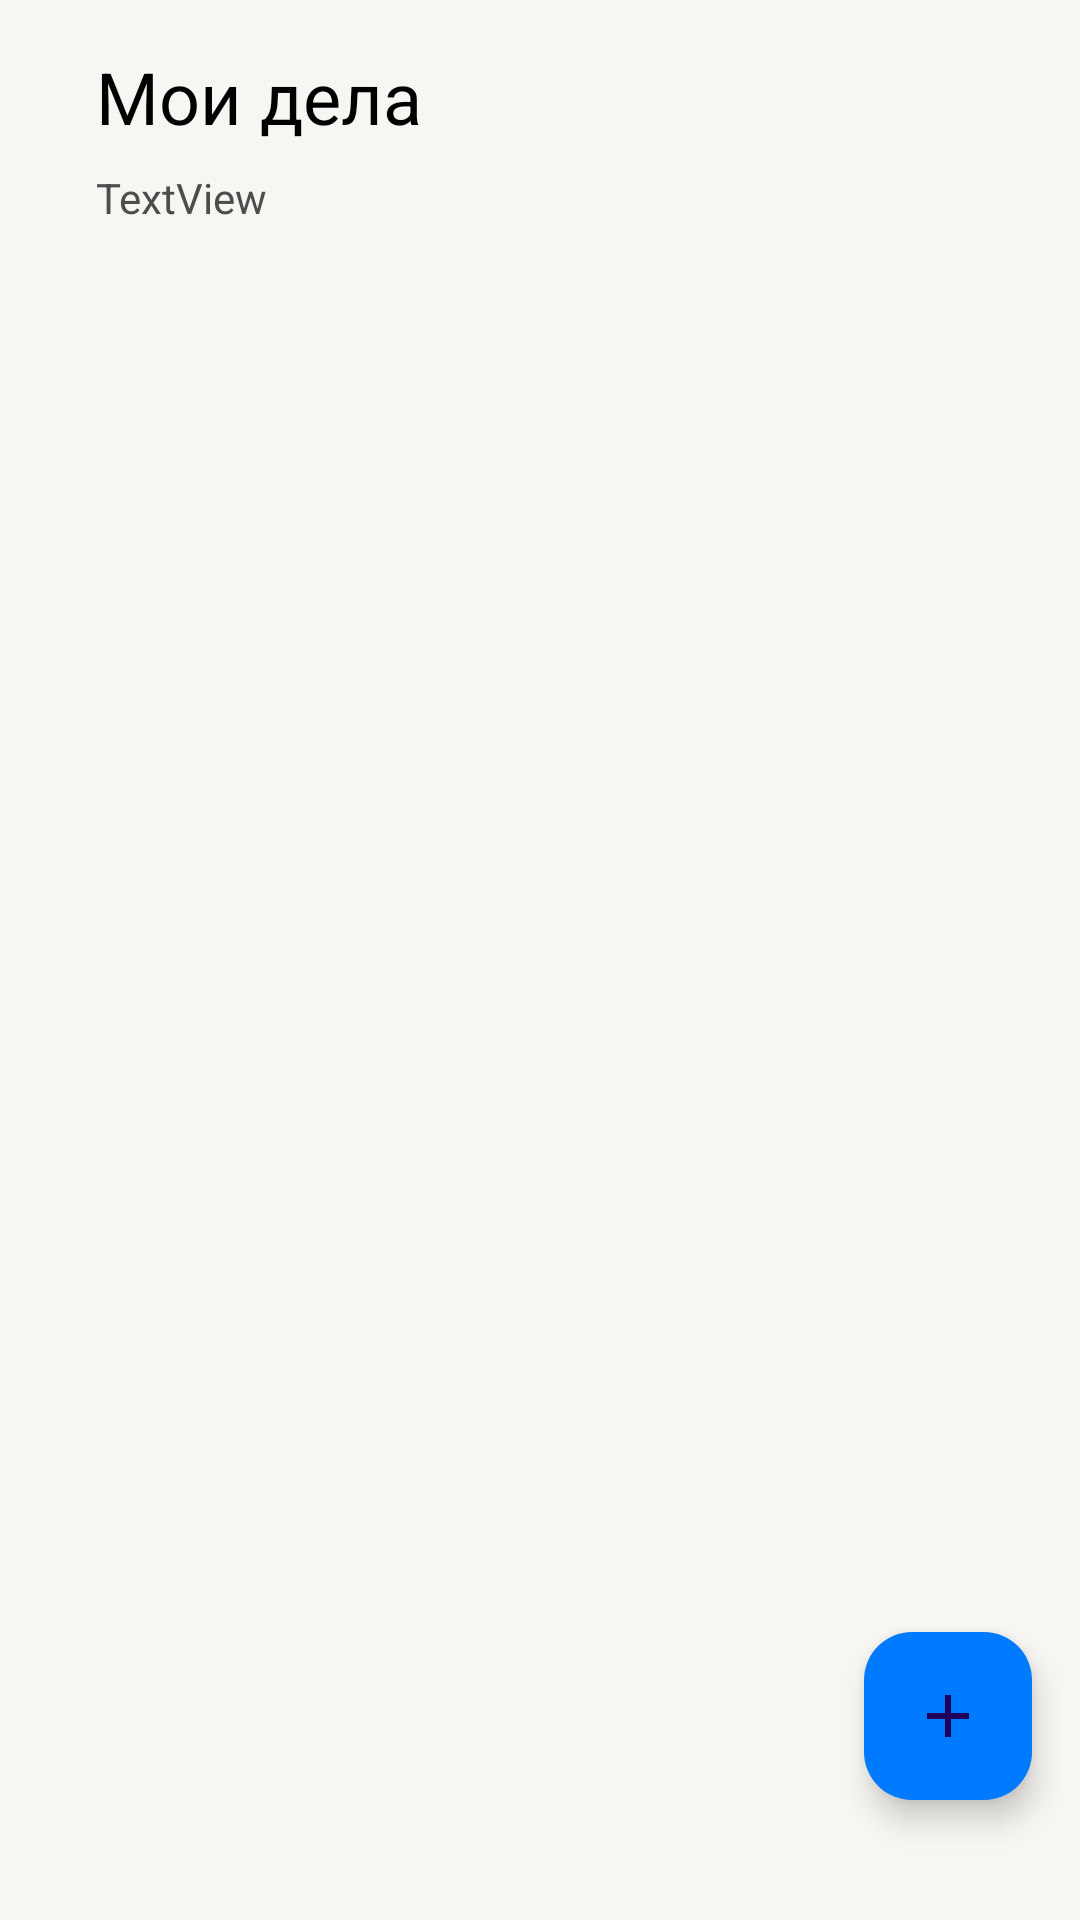

Named icons in this screenshot (1080x1920) and their bounding boxes, (x1, y1, x2, y2):
add: (864, 1632, 1032, 1800)
